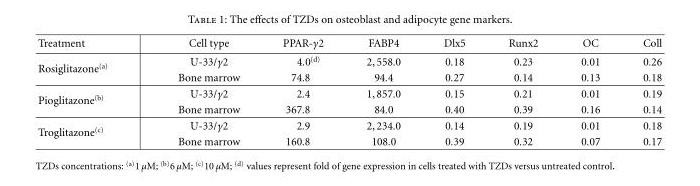table: (37, 36, 661, 147)
table column: (142, 36, 260, 147), (37, 36, 142, 147), (260, 36, 344, 147), (344, 36, 421, 147), (486, 36, 558, 147), (421, 36, 486, 147), (558, 36, 620, 147), (620, 36, 661, 147)
table row: (37, 51, 661, 69), (37, 69, 661, 85), (37, 85, 661, 101), (37, 101, 661, 117), (37, 117, 661, 133), (37, 36, 661, 51), (37, 133, 661, 147)
table spanning cell: (37, 51, 142, 85), (37, 85, 142, 117), (37, 117, 142, 147)
